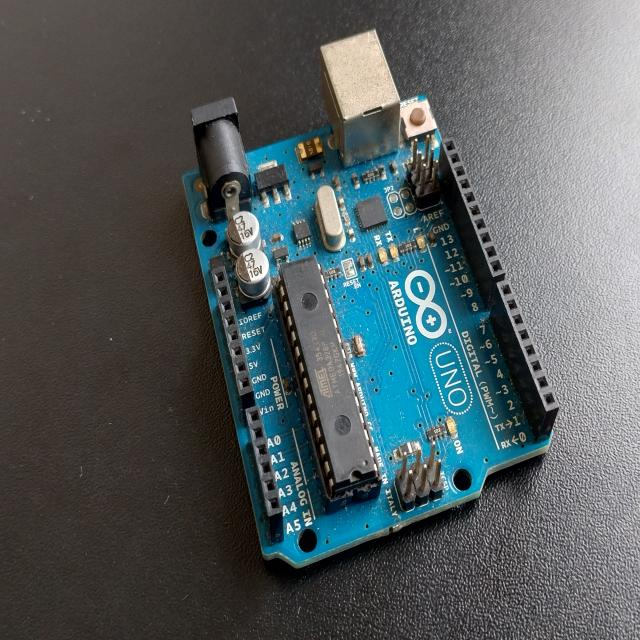arduino: (165, 35, 563, 568)
